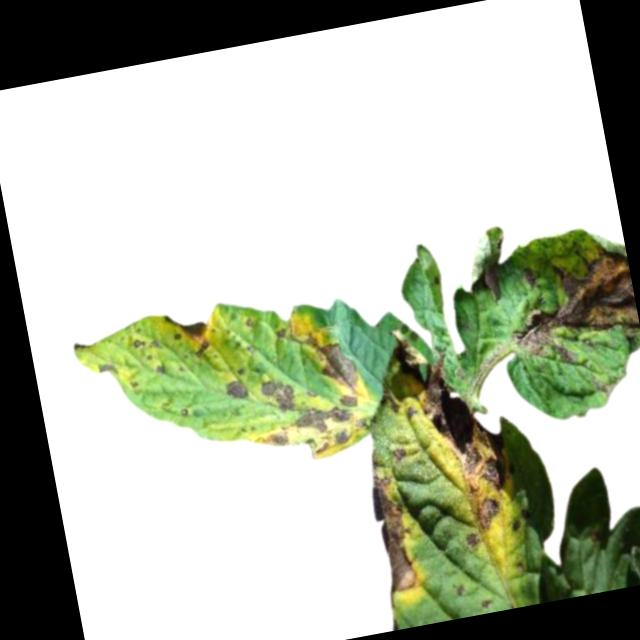Early_blight: (391, 316, 509, 504), (497, 241, 640, 373), (258, 391, 378, 469), (367, 470, 422, 593), (306, 325, 366, 400), (161, 307, 215, 361), (259, 372, 299, 415), (470, 493, 507, 533), (479, 252, 505, 304), (131, 333, 163, 364), (222, 376, 250, 401), (379, 385, 401, 415), (591, 371, 615, 396), (96, 357, 119, 377), (388, 443, 409, 463), (272, 320, 291, 342), (463, 530, 481, 550), (520, 265, 537, 284), (509, 516, 524, 530), (150, 362, 165, 376)
